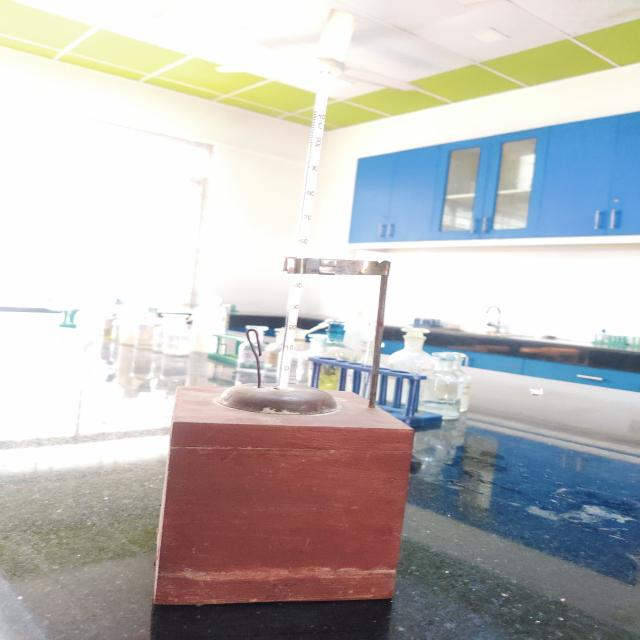Calorimeter: (109, 18, 487, 637)
